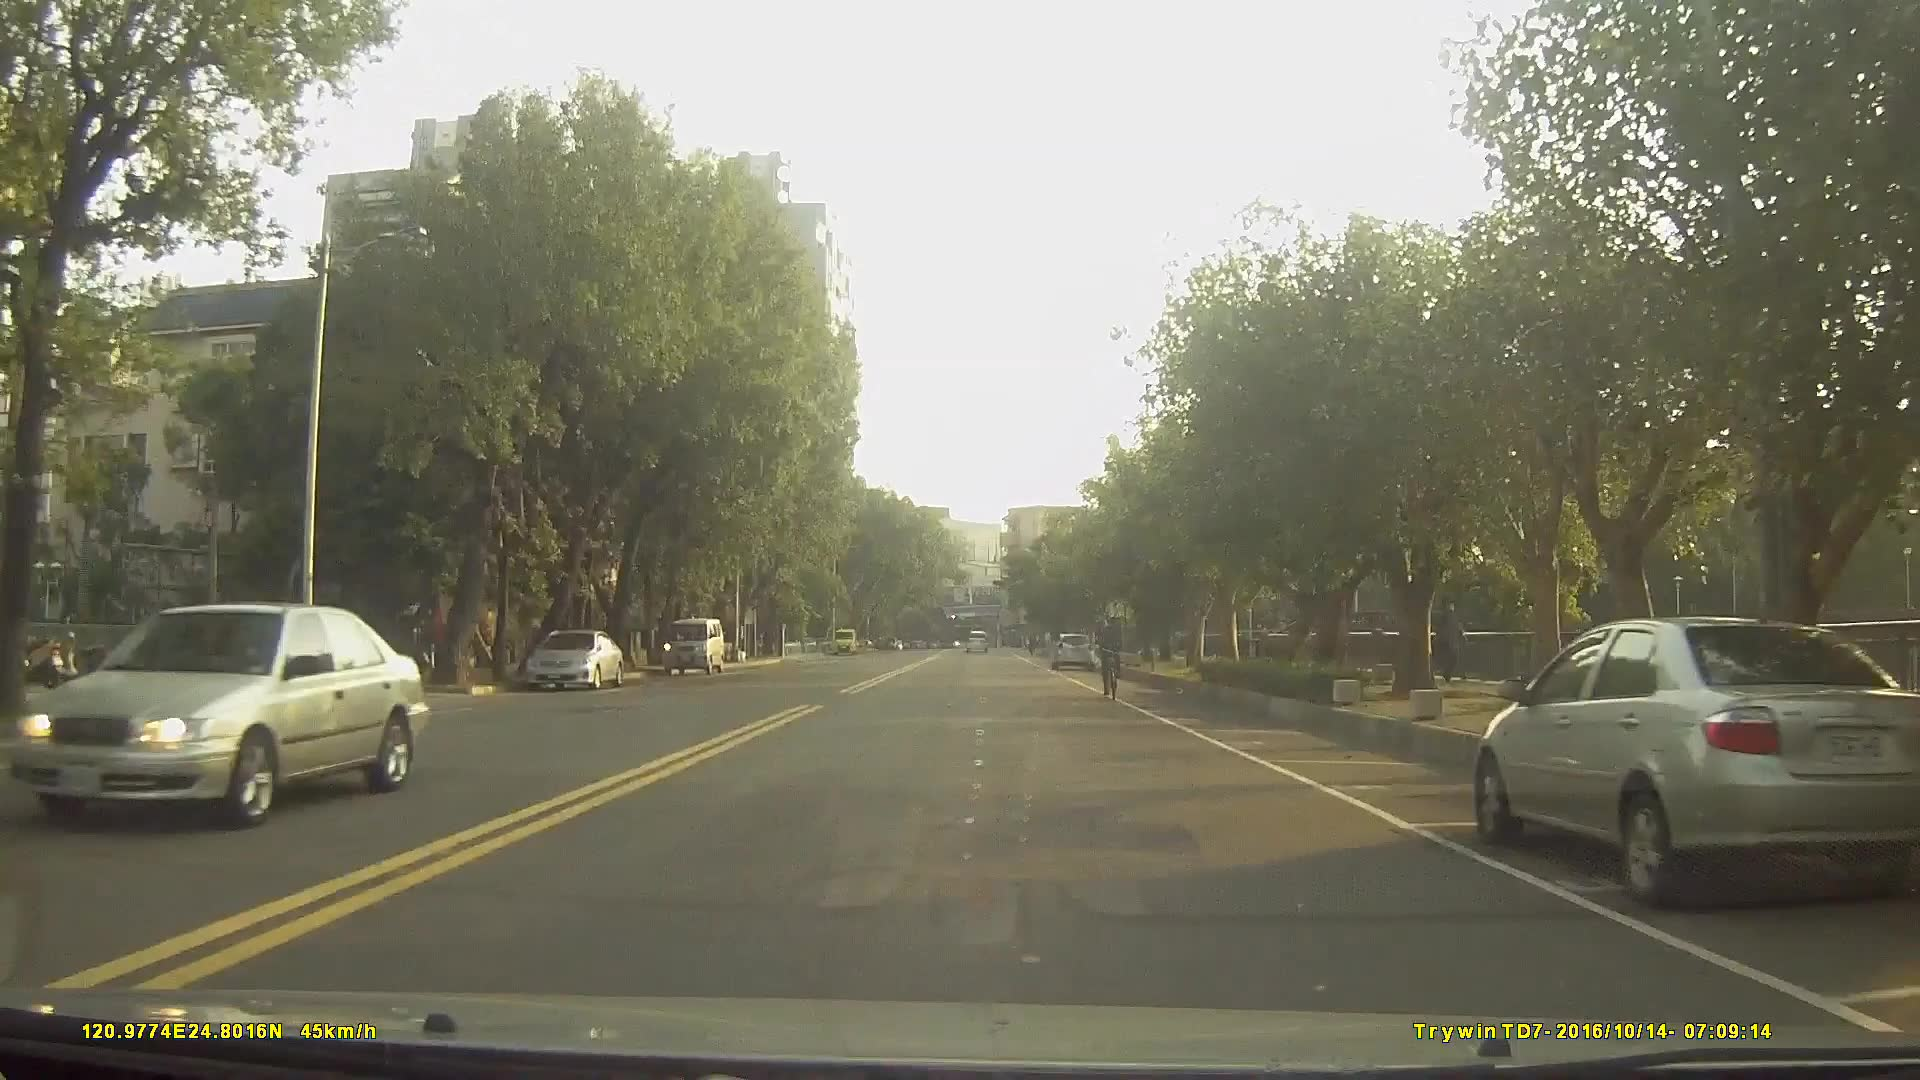rider: (1096, 615, 1126, 700)
vehicle: (1472, 613, 1920, 906), (6, 600, 427, 829), (523, 629, 623, 695), (659, 616, 724, 678), (1048, 632, 1094, 672), (963, 624, 988, 650)
